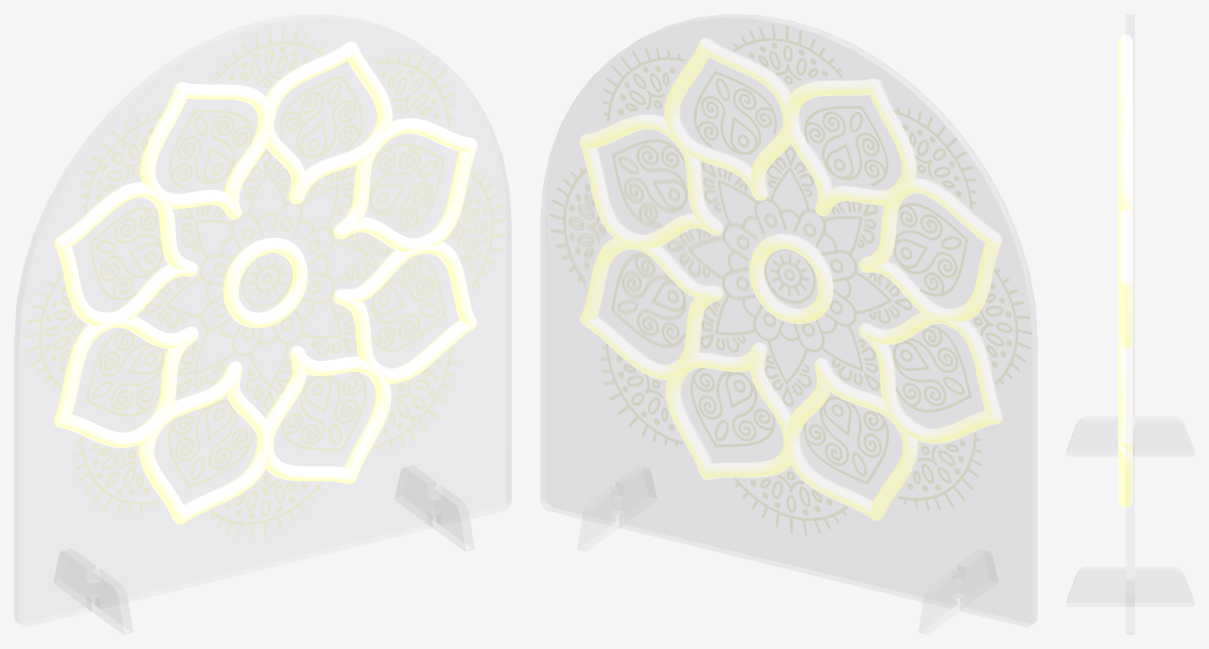
File: 1_мандала_small.glb
The picture shows the model from 3 angles, left to right: view 1: azimuth 30°, elevation 25°; view 2: azimuth 150°, elevation 25°; view 3: azimuth 270°, elevation 25°; orthographic projection. The views are drawn at different scales.
Visible parts, largest first — view 1: Curve.001, Curve.003, Curve, Curve.007; view 2: Curve.001, Curve.003, Curve, Curve.007; view 3: Curve.007, Curve.003, Curve.001.
Boxes of the visible parts, x1,y1,x2,y2 form: Curve.001: (15,14,510,626); Curve.003: (53,41,477,524); Curve: (19,24,511,539); Curve.007: (54,466,473,634); Curve.001: (541,14,1036,626); Curve.003: (579,37,1003,520); Curve: (549,21,1037,535); Curve.007: (577,466,997,634); Curve.007: (1067,417,1193,606); Curve.003: (1118,34,1132,507); Curve.001: (1126,14,1134,634).
Size of the model in its own units: 0.2801 by 0.296 by 0.0701.
3 materials, 1 textured.
